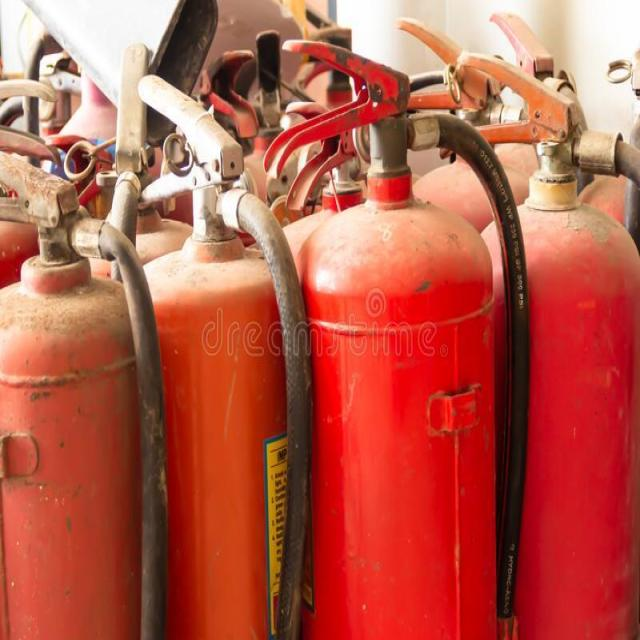fire_extinguisher: (258, 32, 533, 639), (440, 46, 639, 638), (126, 74, 316, 632), (0, 139, 174, 639)
